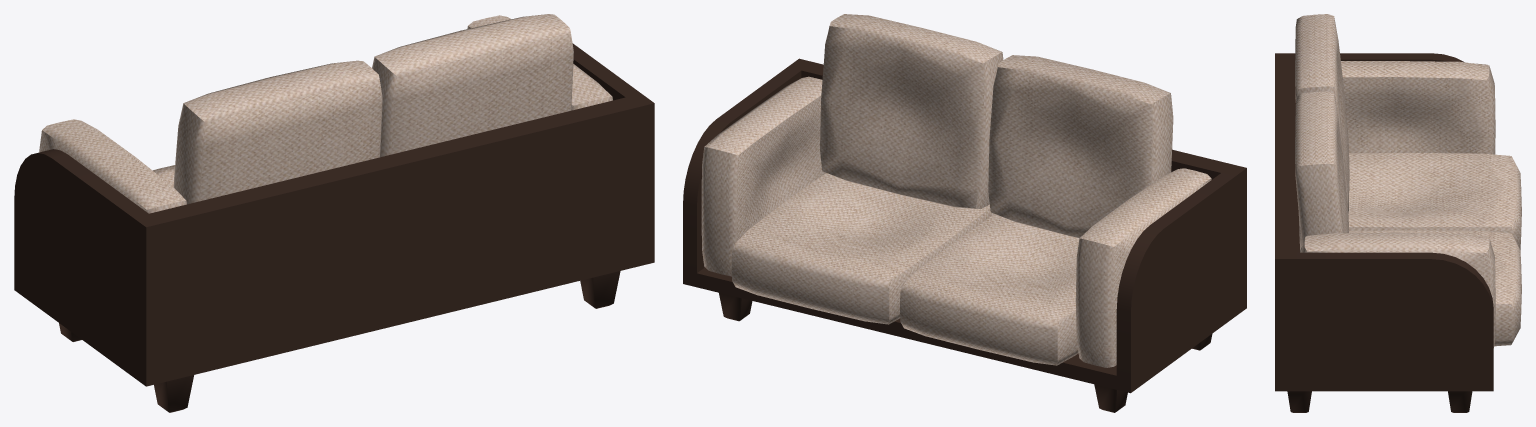
The model's file is furniture_seating_210069.glb.
3 renders of one model, left to right at view 1: azimuth 30°, elevation 25°; view 2: azimuth 150°, elevation 25°; view 3: azimuth 270°, elevation 25°, orthographic. The views are drawn at different scales.
Visible parts, largest first — view 1: furniture_seating_210069; view 2: furniture_seating_210069; view 3: furniture_seating_210069.
Boxes of the visible parts, x1,y1,x2,y2 form: furniture_seating_210069: [14, 14, 654, 412]; furniture_seating_210069: [683, 14, 1246, 412]; furniture_seating_210069: [1275, 14, 1521, 412].
Bounding box in the file's own units: 1.61 × 0.8773 × 0.8179.
1 material, 1 textured.
